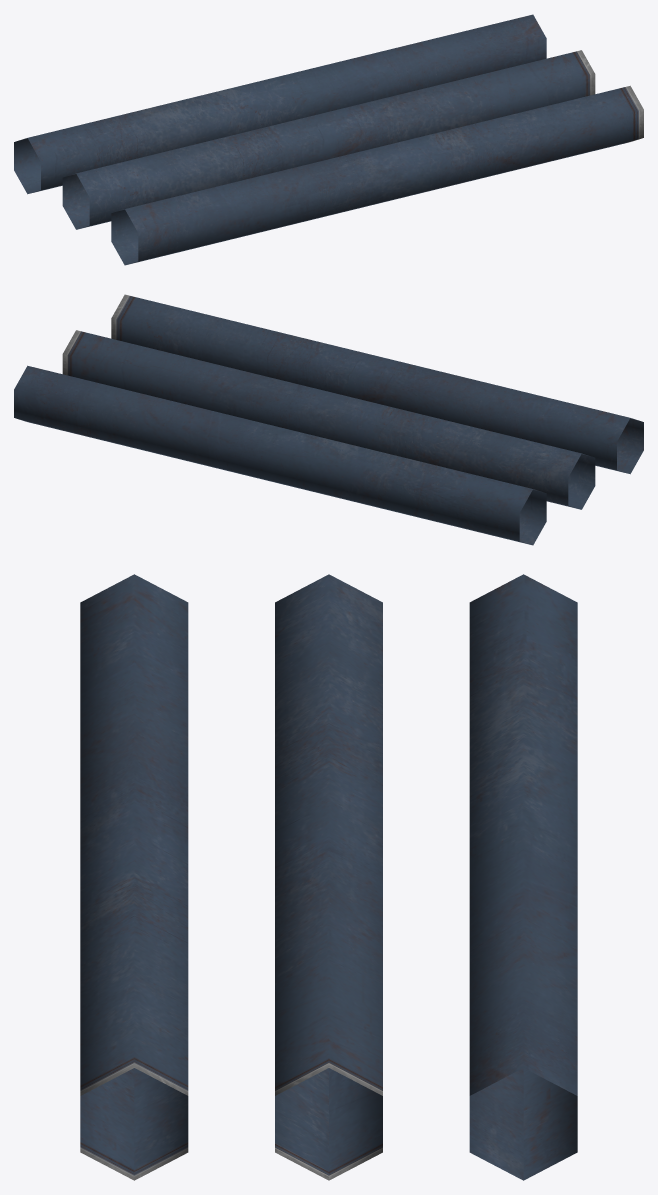
File: Pipe3_C_L1.fbx
The picture shows the model from 3 angles, top to bottom: view 1: azimuth 30°, elevation 25°; view 2: azimuth 150°, elevation 25°; view 3: azimuth 270°, elevation 25°; orthographic projection. The views are drawn at different scales.
Parts seen in each view (by area): view 1: PIpe3_C_L1; view 2: PIpe3_C_L1; view 3: PIpe3_C_L1.
Part boxes in pixels (box(x1,y1,x2,y2)): PIpe3_C_L1: box(14, 14, 643, 265); PIpe3_C_L1: box(14, 294, 643, 545); PIpe3_C_L1: box(80, 574, 577, 1180).
Size of the model in its own units: 100 by 10.66 by 42.56.
